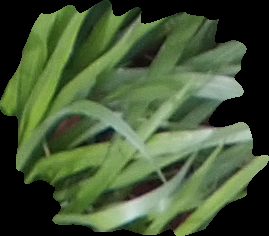grass: (1, 1, 267, 234)
